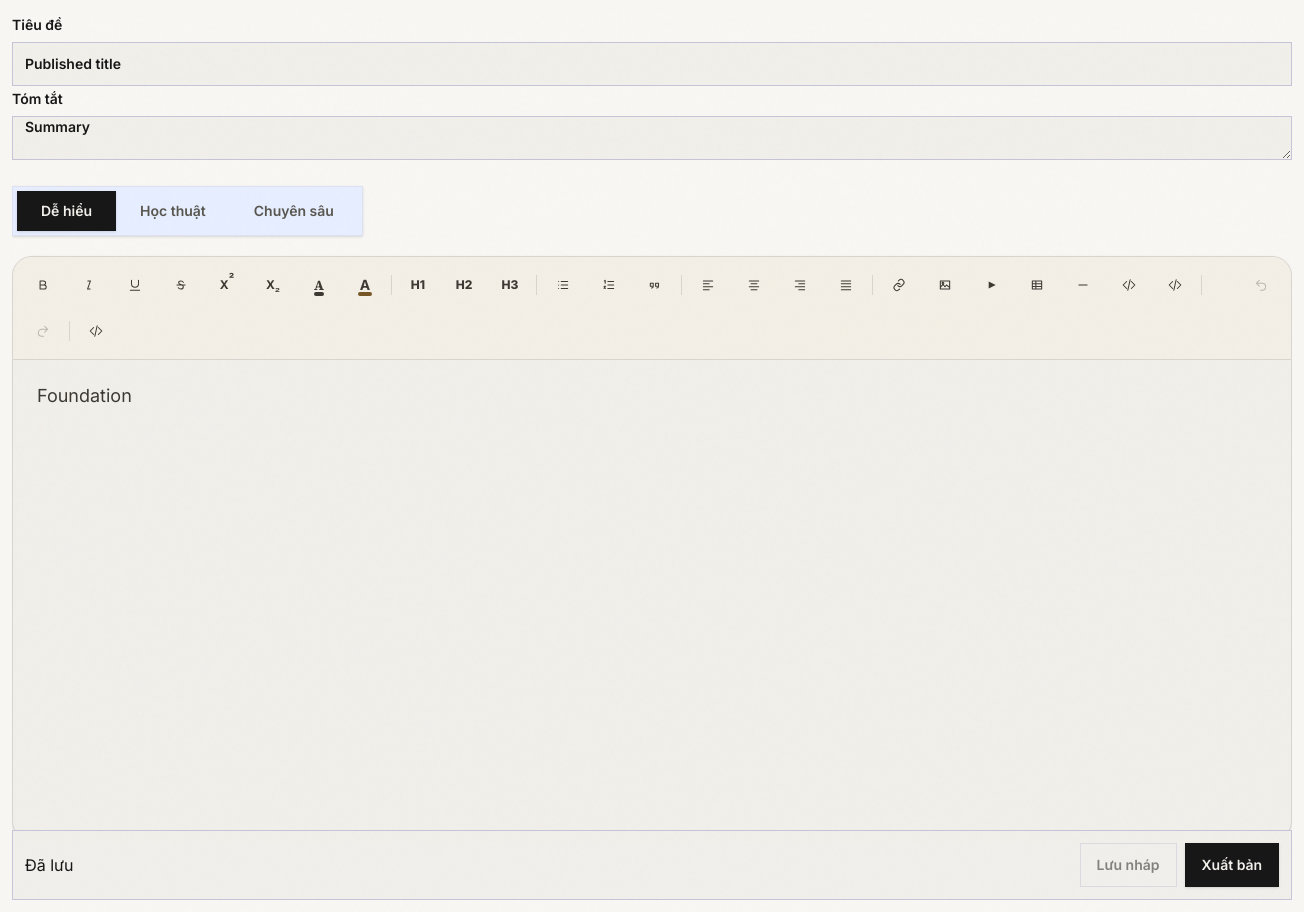
ReaderEditor › keeps the local backup when publishing fails after saving the server draft
Replace the text in the field labelled "Tiêu đề" with "New draft title" at (652, 64), box [12, 42, 1292, 86]
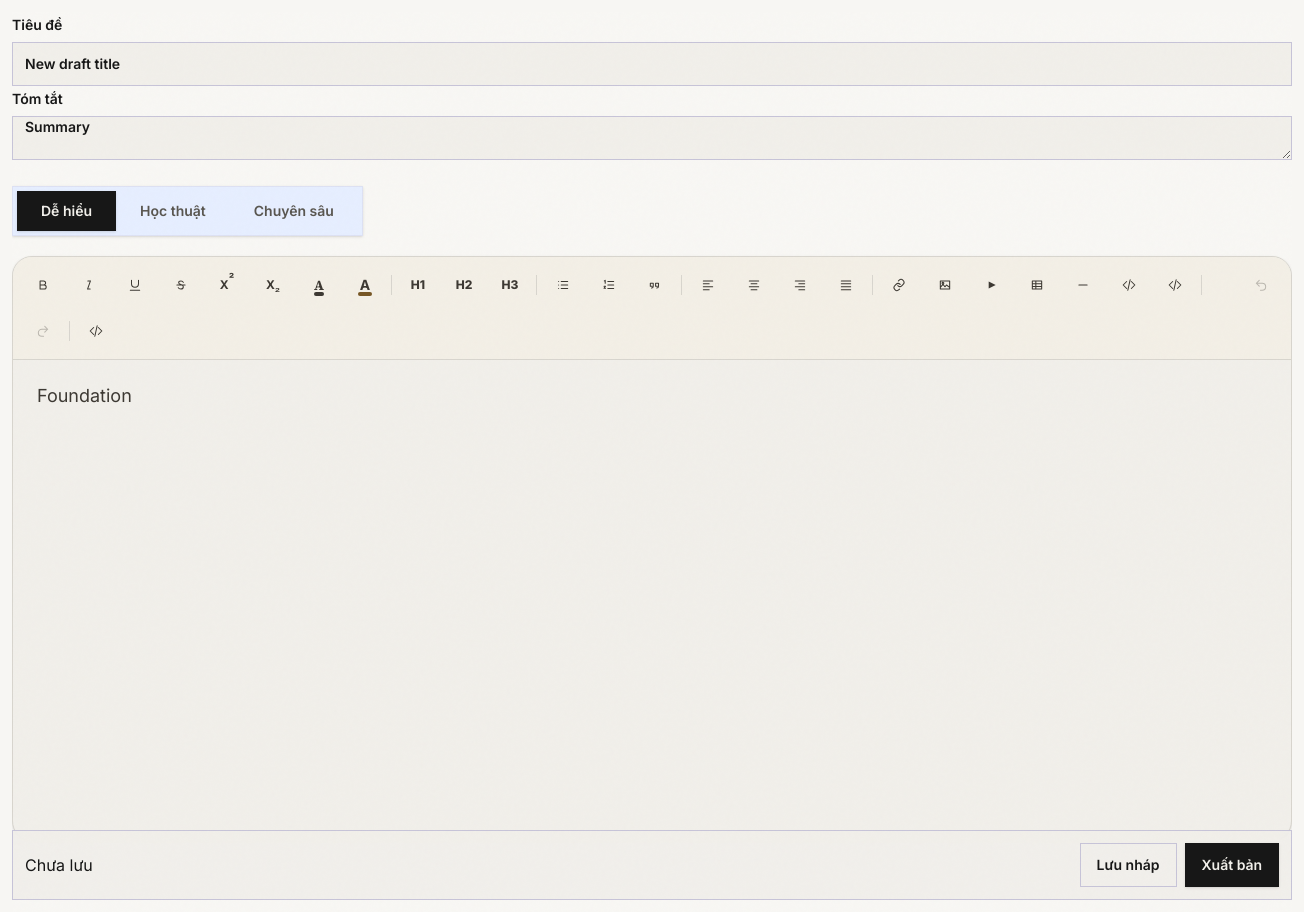
Click the button "Xuất bản" at (1232, 865), box [1184, 843, 1279, 887]
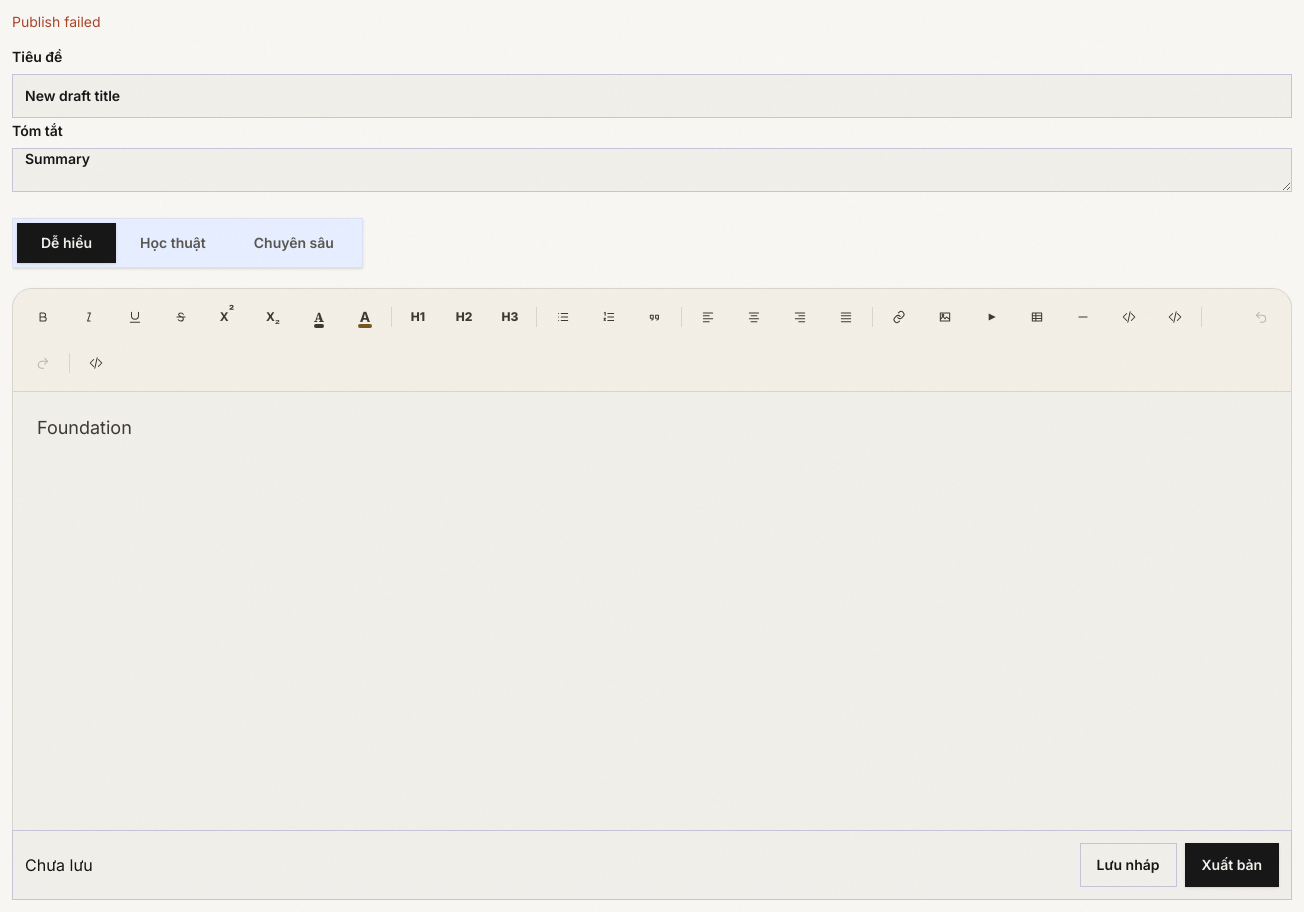
Expected: the text "Publish failed" is shown, [12, 13, 100, 30]
